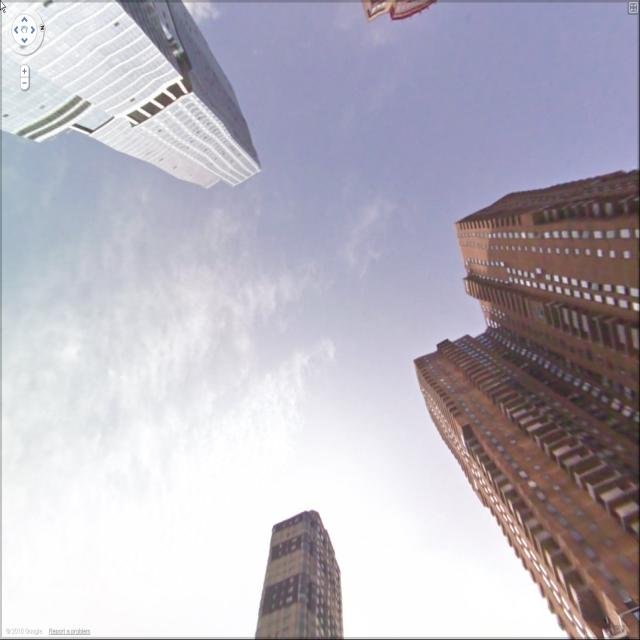b_1: (410, 163, 640, 630), (2, 0, 255, 178), (253, 512, 351, 632), (358, 2, 436, 20)
